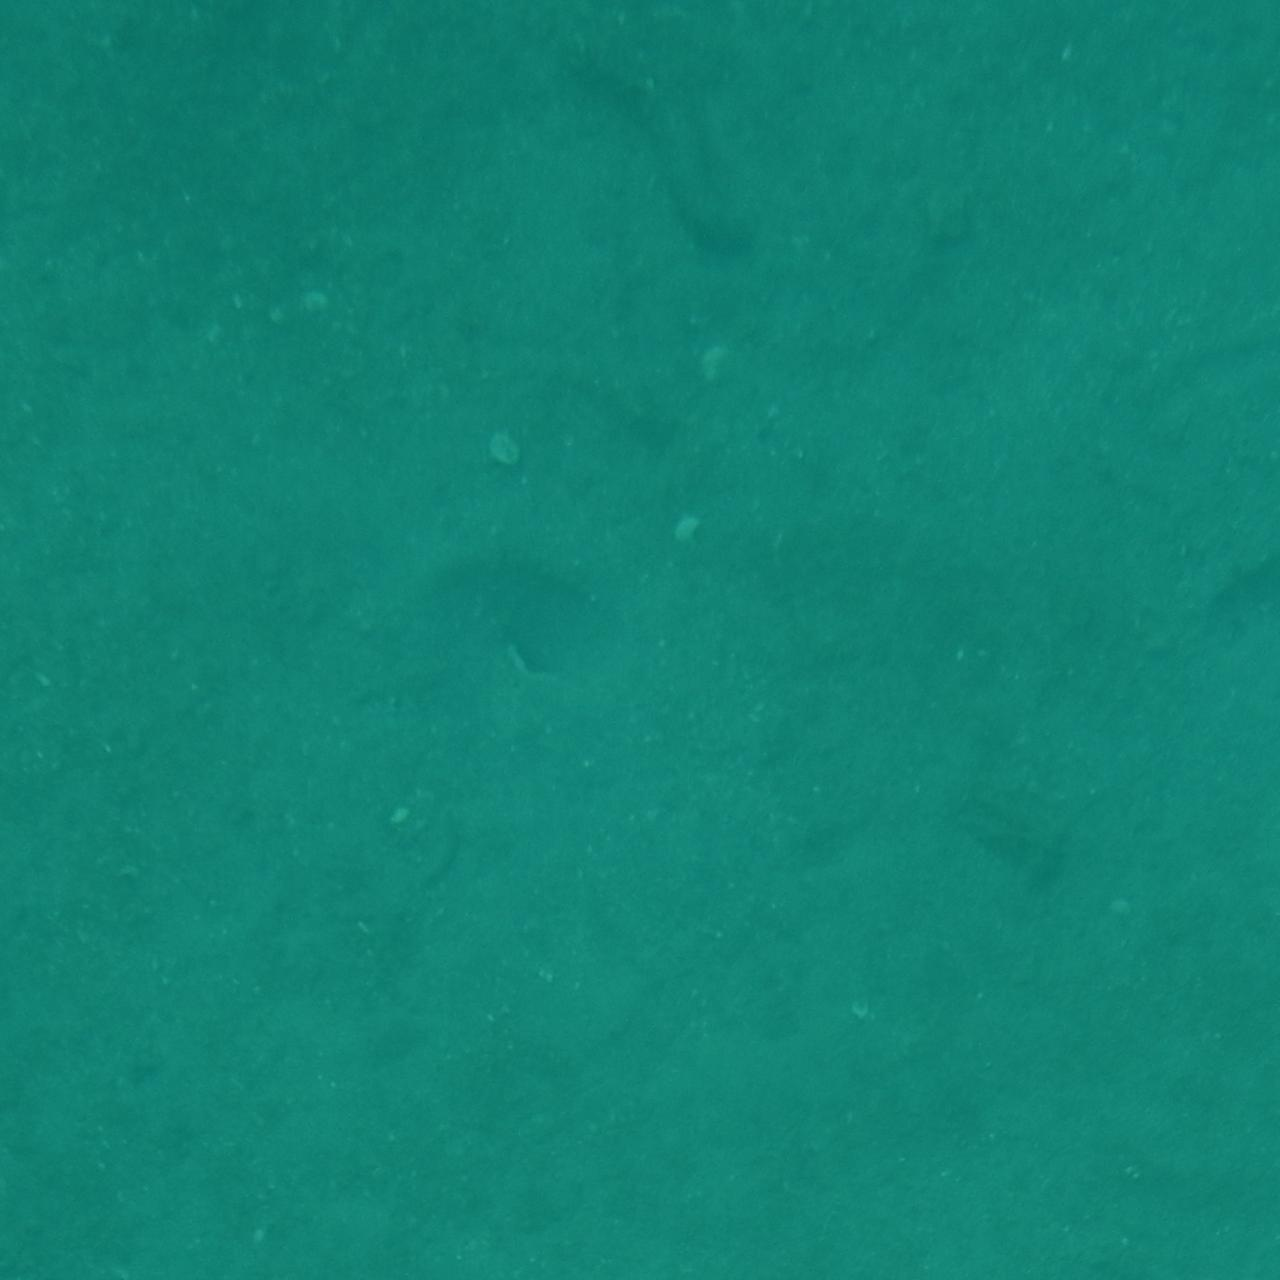Holothuria tubulosa: (522, 18, 758, 263)
